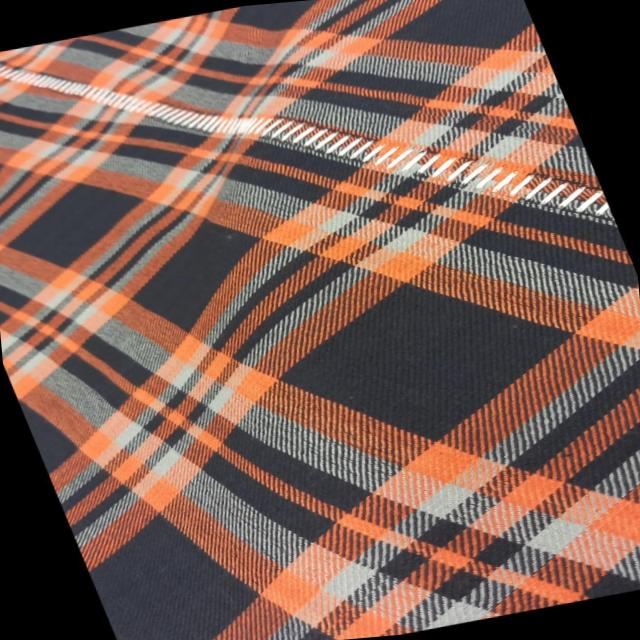gray stitch: (254, 64, 618, 286), (0, 10, 251, 193)
